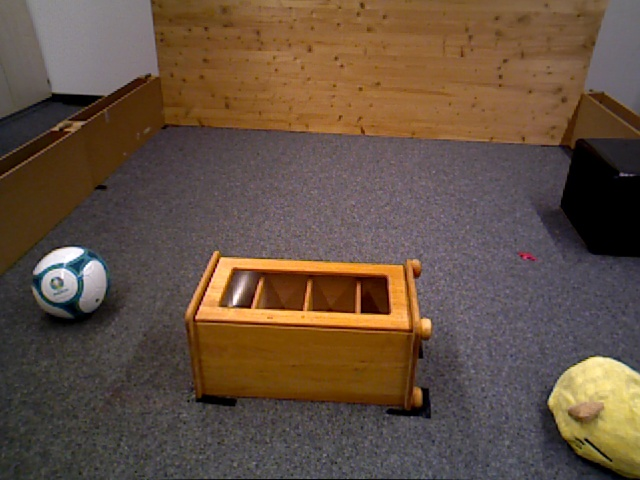grasp: (547, 355, 639, 477)
kick: (32, 245, 110, 323)
push: (574, 138, 640, 258)
